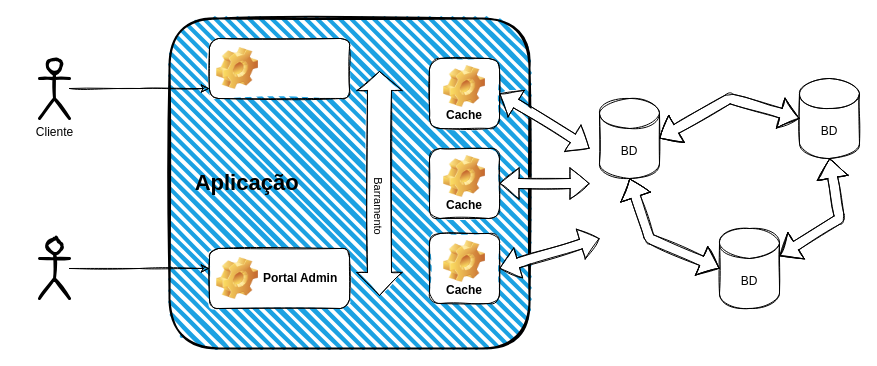
This 877x366 diagram has some shape labels left out. The shapes that lost their labels are listed below. From the top down, each one's centre as x and y in pixels, then its label:
At point (279, 68): "Portal Cliente".
At point (54, 268): "Administrador".
